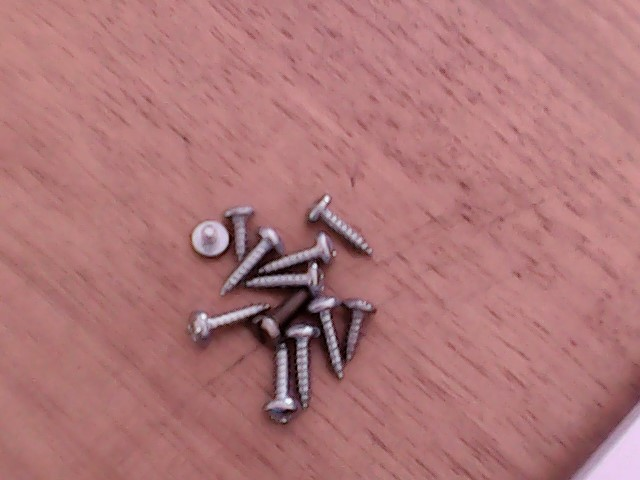Metal: (178, 164, 381, 475)
